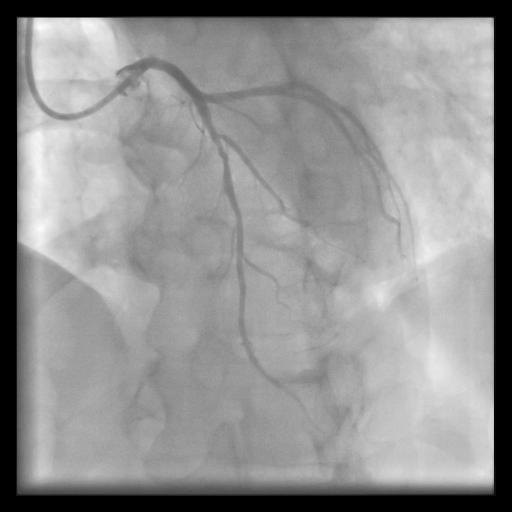Stenosis: (215, 137, 232, 187)
